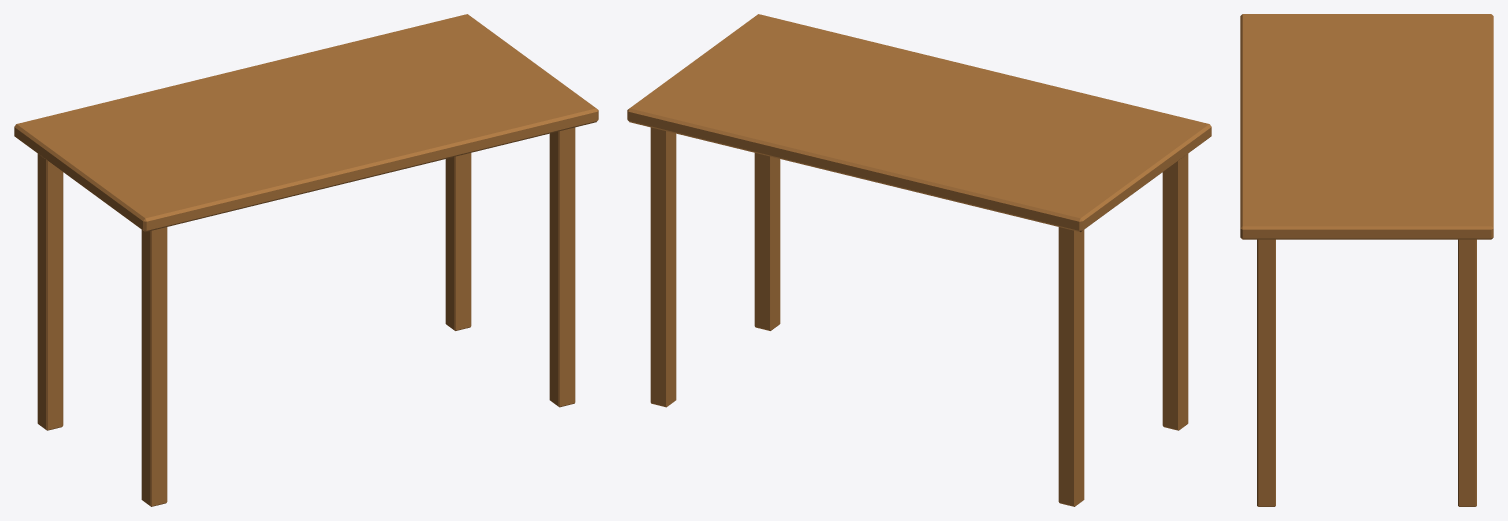
File: MesaSimples.fbx
3 renders of one model, left to right at view 1: azimuth 30°, elevation 25°; view 2: azimuth 150°, elevation 25°; view 3: azimuth 270°, elevation 25°, orthographic. The views are drawn at different scales.
Parts seen in each view (by area): view 1: MesaSimples; view 2: MesaSimples; view 3: MesaSimples.
Boxes of the visible parts, x1,y1,x2,y2 form: MesaSimples: [14, 14, 598, 506]; MesaSimples: [627, 14, 1211, 506]; MesaSimples: [1240, 14, 1493, 506].
Size of the model in its own units: 1.2 by 0.75 by 0.6.
